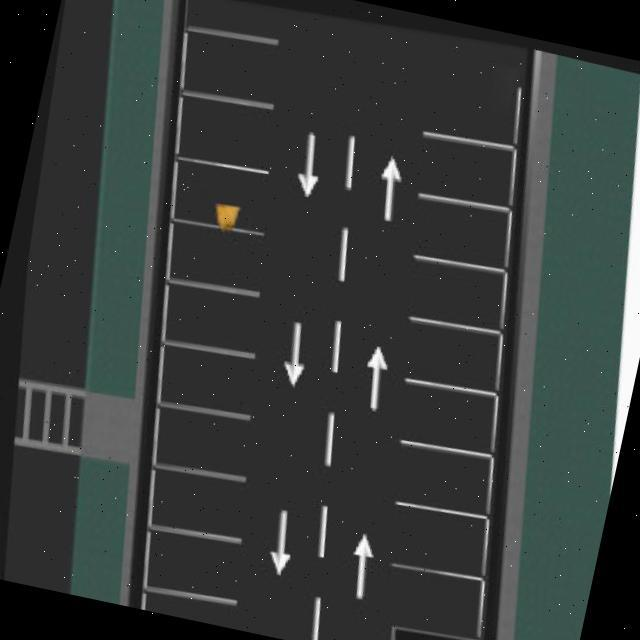garbage-trXY: (209, 202, 241, 230)
